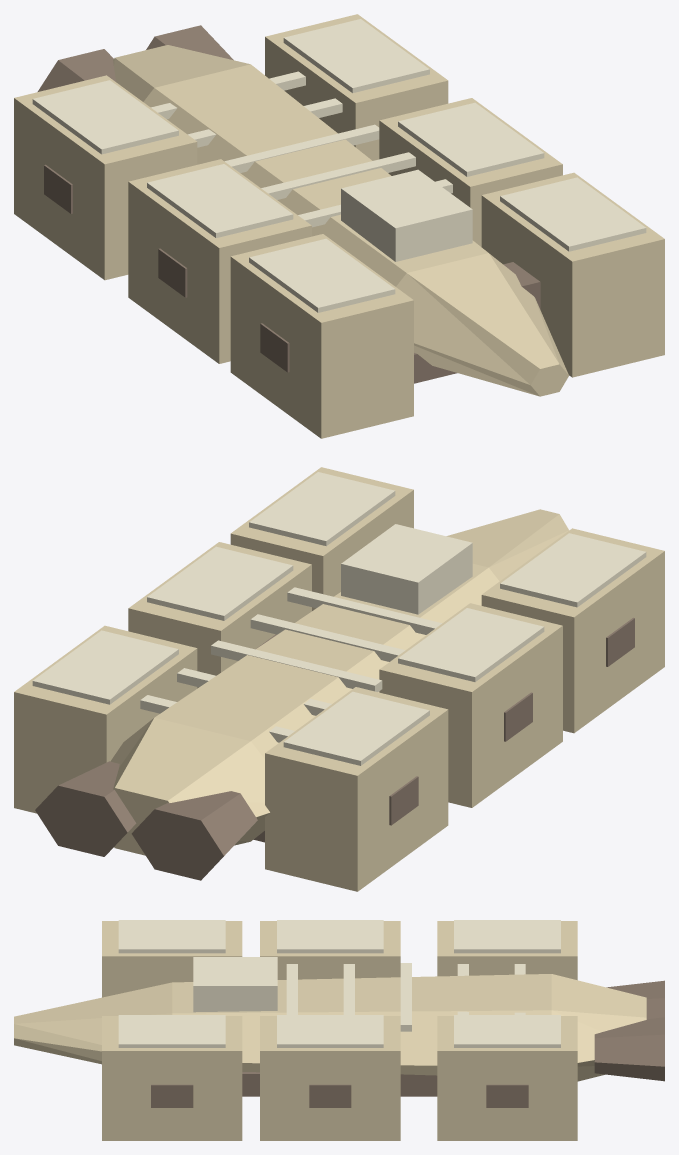
3 views of the same model, one above another, from view 1: azimuth 30°, elevation 25°; view 2: azimuth 150°, elevation 25°; view 3: azimuth 270°, elevation 25° (orthographic). The views are drawn at different scales.
Size of the model in its own units: 4.46 by 1.66 by 9.35.
